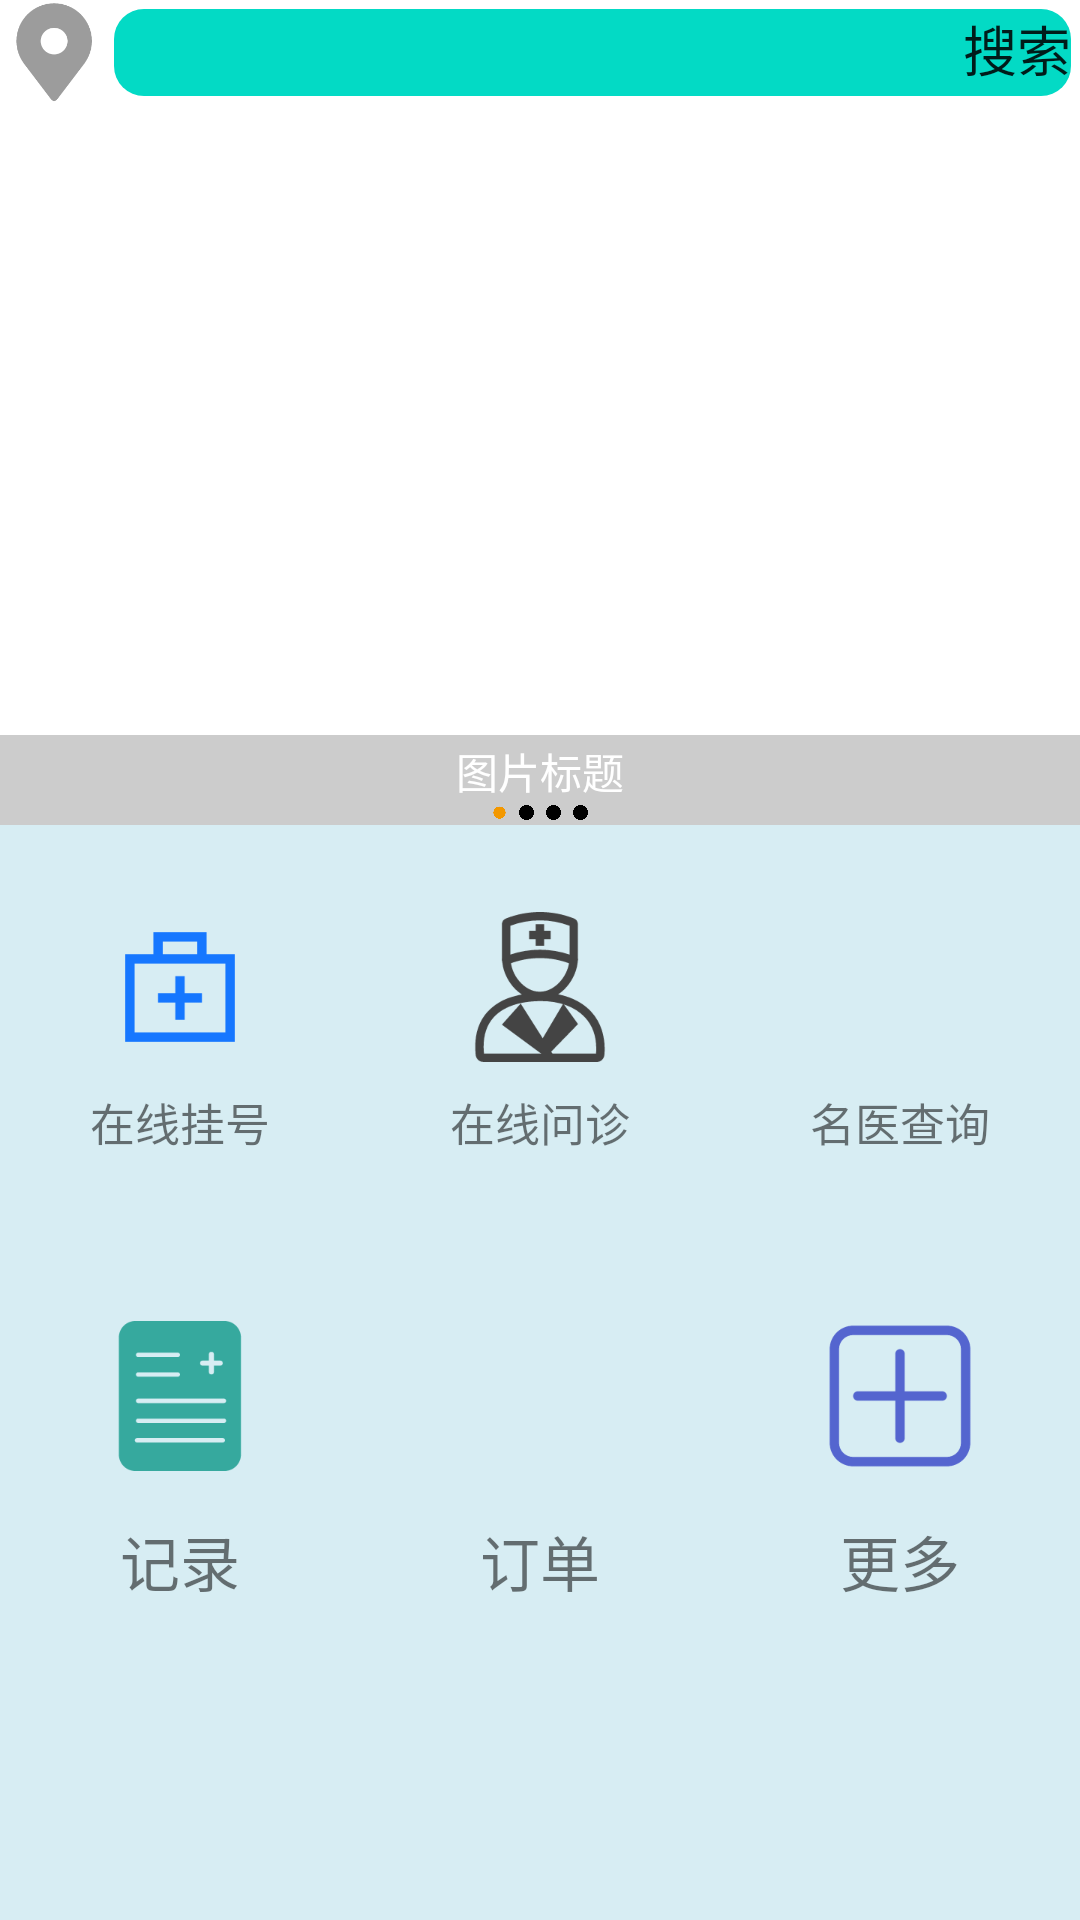

Where to tap for icons on this 1080 x 1920 app screen, as point (x, y):
address: point (54, 52)
doctor: point (540, 987)
more: point (900, 1396)
yiliao: point (180, 987)
